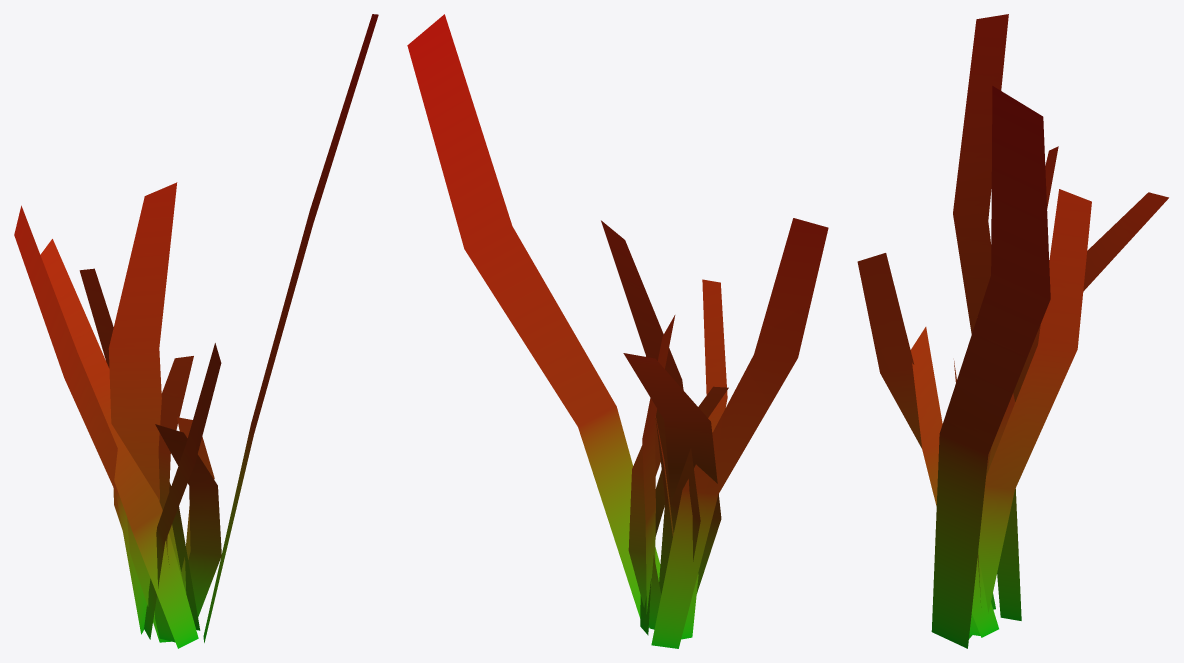
The model's file is tlijciuia_Var6_LOD0.fbx.
3 renders of one model, left to right at view 1: azimuth 30°, elevation 25°; view 2: azimuth 150°, elevation 25°; view 3: azimuth 270°, elevation 25°, orthographic. The views are drawn at different scales.
Parts seen in each view (by area): view 1: _3709_Var6_LOD0; view 2: _3709_Var6_LOD0; view 3: _3709_Var6_LOD0.
Boxes of the visible parts, left/top/right/bottom form: _3709_Var6_LOD0: left=14, top=14, right=378, bottom=648; _3709_Var6_LOD0: left=407, top=14, right=828, bottom=648; _3709_Var6_LOD0: left=857, top=14, right=1168, bottom=648.
Bounding box in the file's own units: 4.49 × 6.32 × 2.67.
